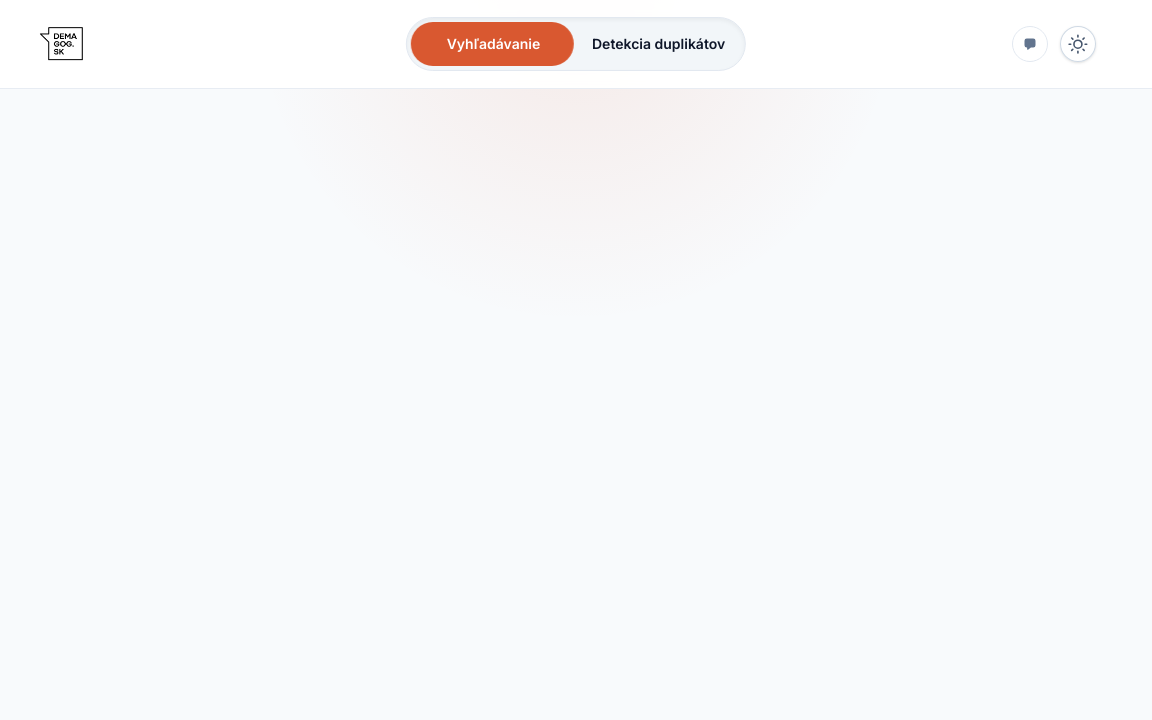
Test: FeedbackWidget › preserves the draft when submission fails
Click the button named "Otvoriť spätnú väzbu": (1030, 44) [1012,26,1048,62]
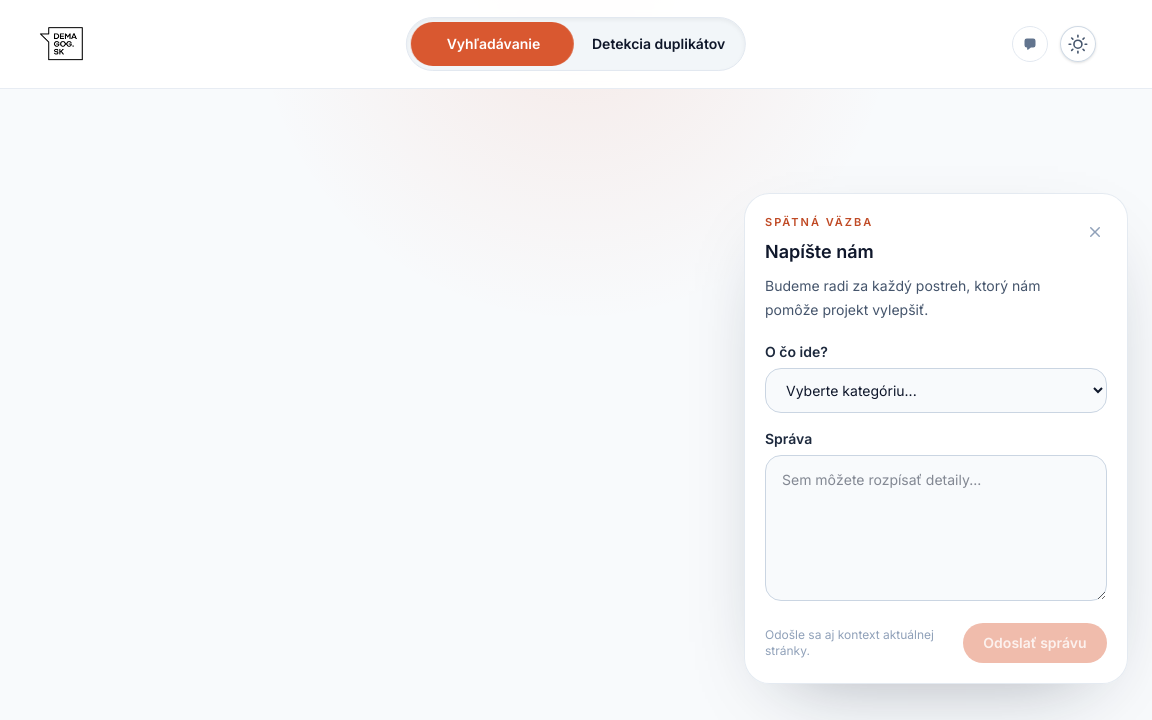
Select "Niečo nefunguje" in the dropdown labelled "O čo ide?": (936, 390) [765,368,1107,413]
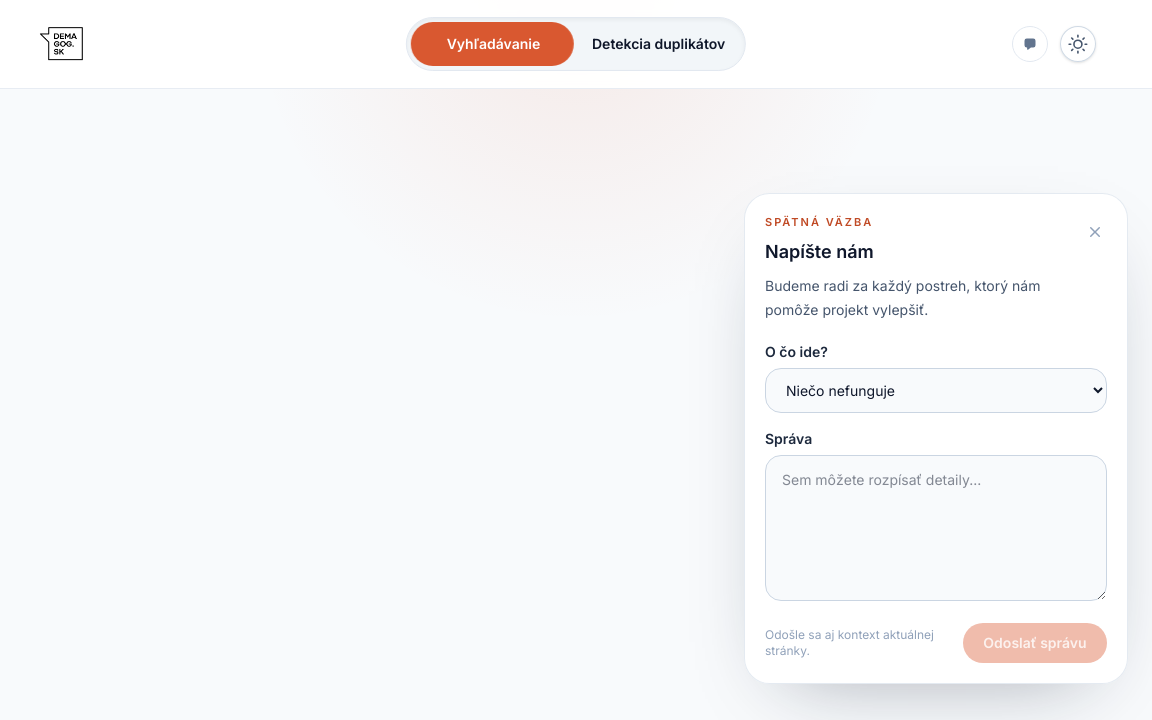
In the text box labelled "Správa": (936, 528) [765,455,1107,601], type "Táto správa sa má zachovať."
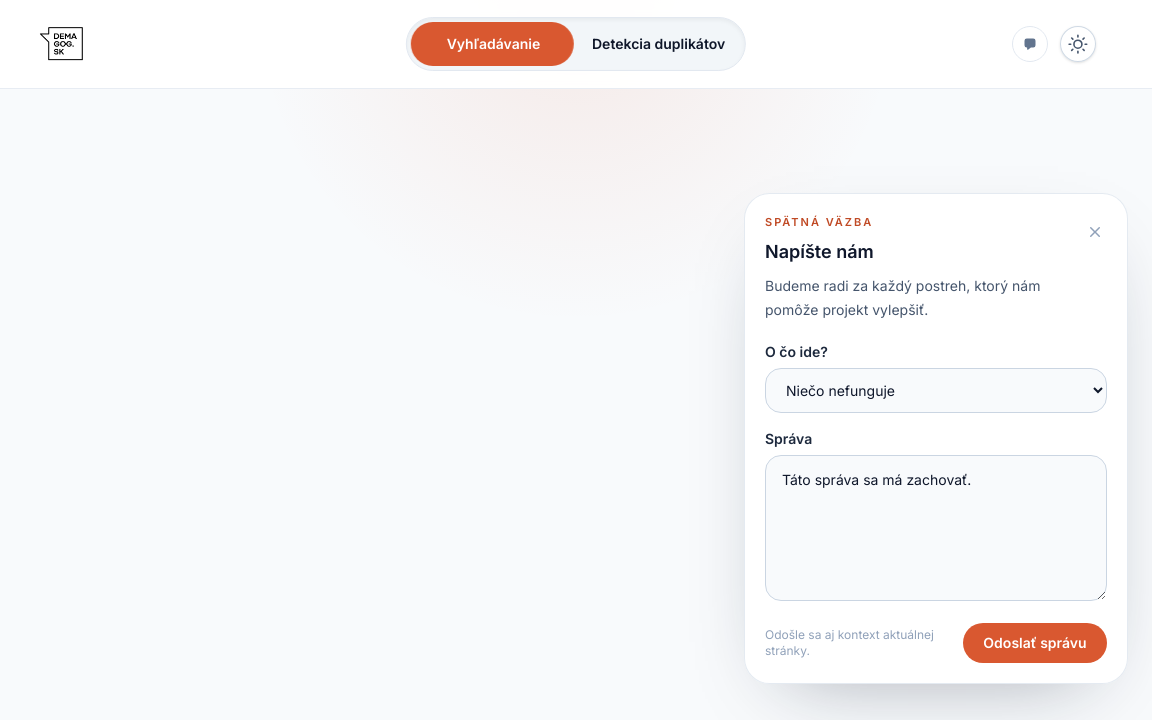
Click the button "Odoslať správu": (1035, 643) [963,623,1107,663]
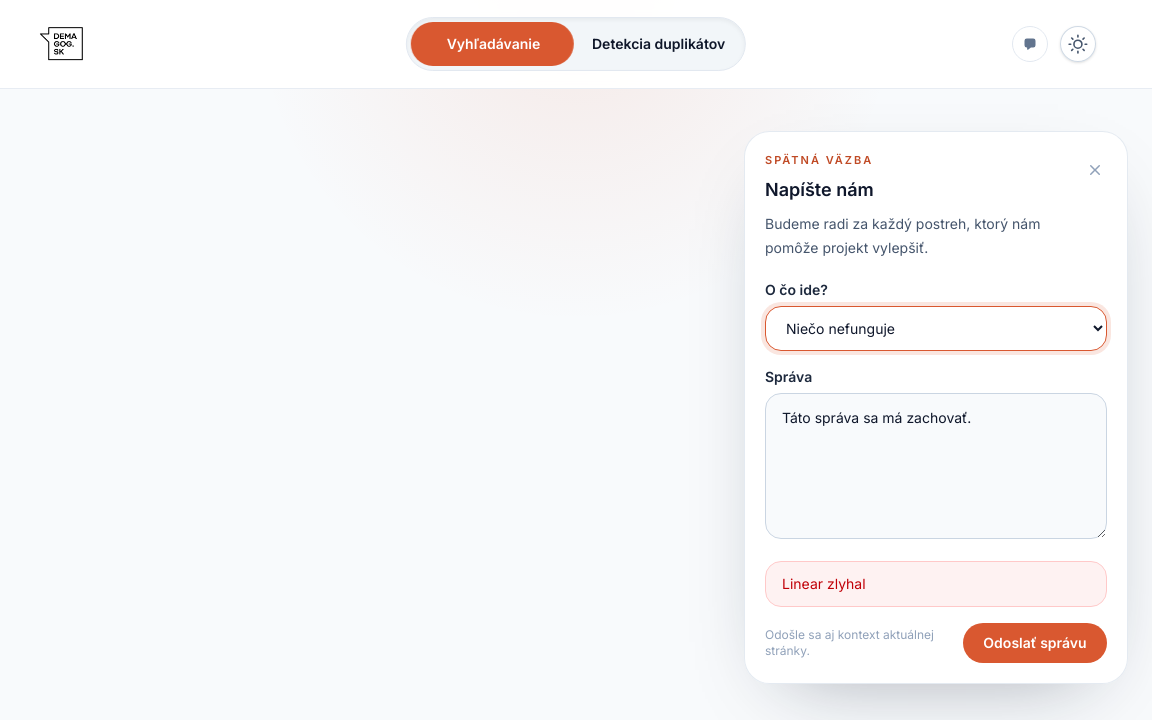
Expected: the text "Linear zlyhal" is shown 2 times
